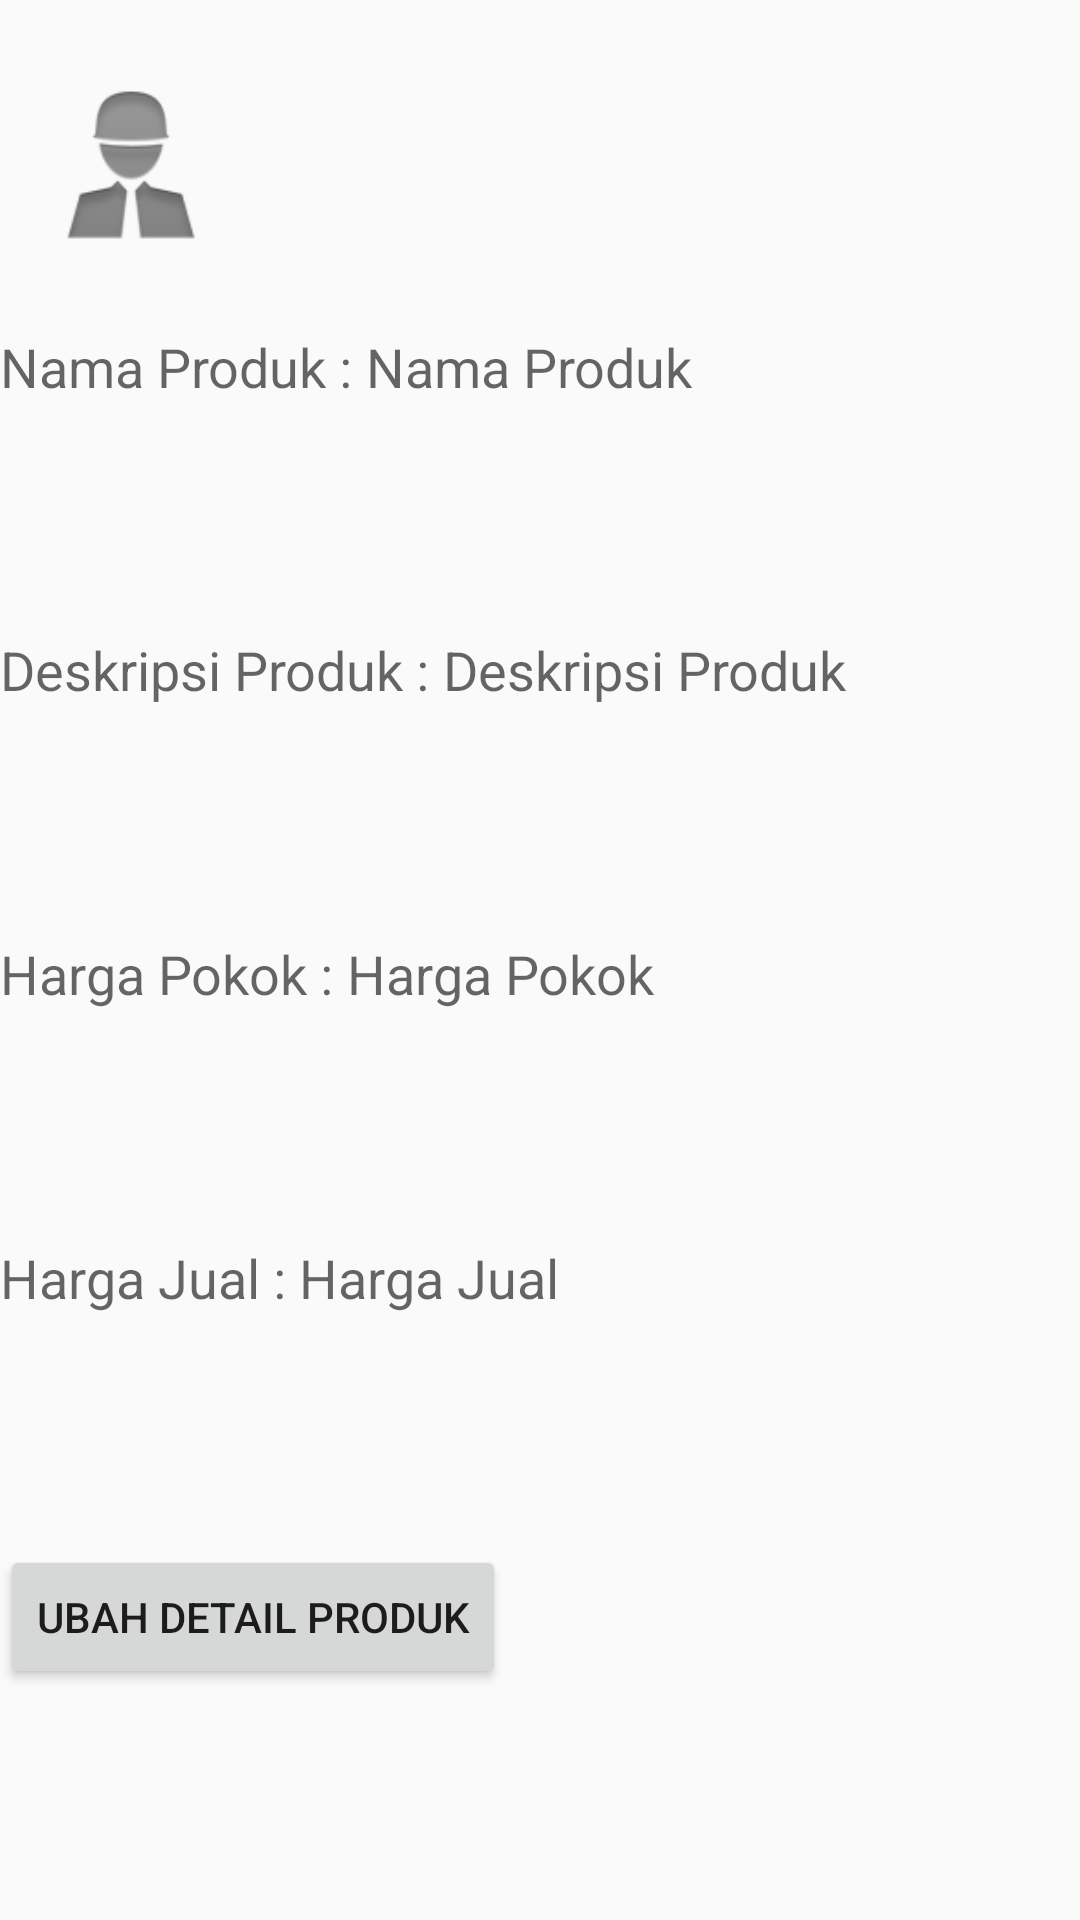

Point at icon controls on the screen. Image size 1080 x 1920, points as (x=x, y=y).
profile: (x=131, y=165)
